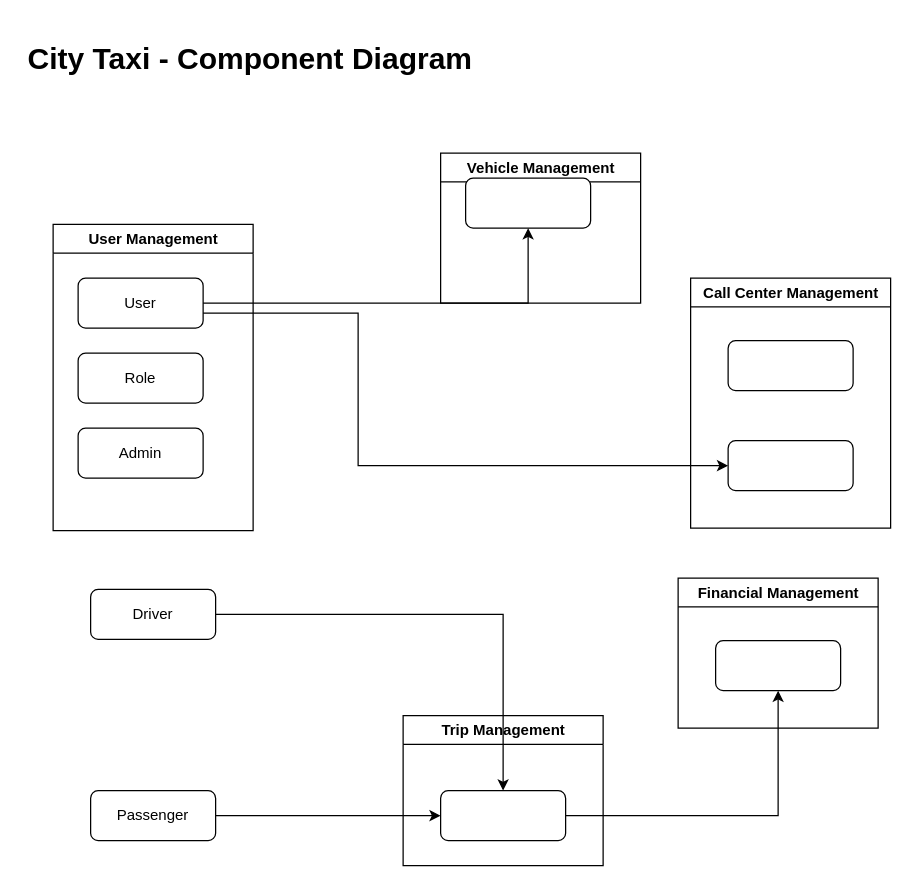
Some shapes in this 913 by 888 pixel diagram are drawn without their labels. Here are the shapes that lost their labels. From the top down, the centre of each, then its label:
At pixel 527 202: "Vehicle".
At pixel 790 365: "Call Center Agent".
At pixel 790 465: "Call Center Request".
At pixel 777 665: "Bank Account".
At pixel 502 815: "Trip".
